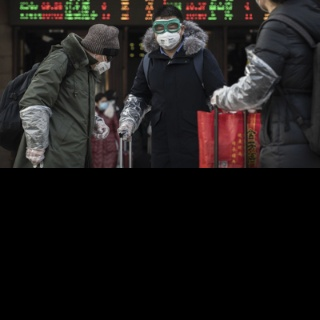with_mask: (153, 17, 181, 50), (93, 52, 112, 74), (97, 99, 109, 111)
